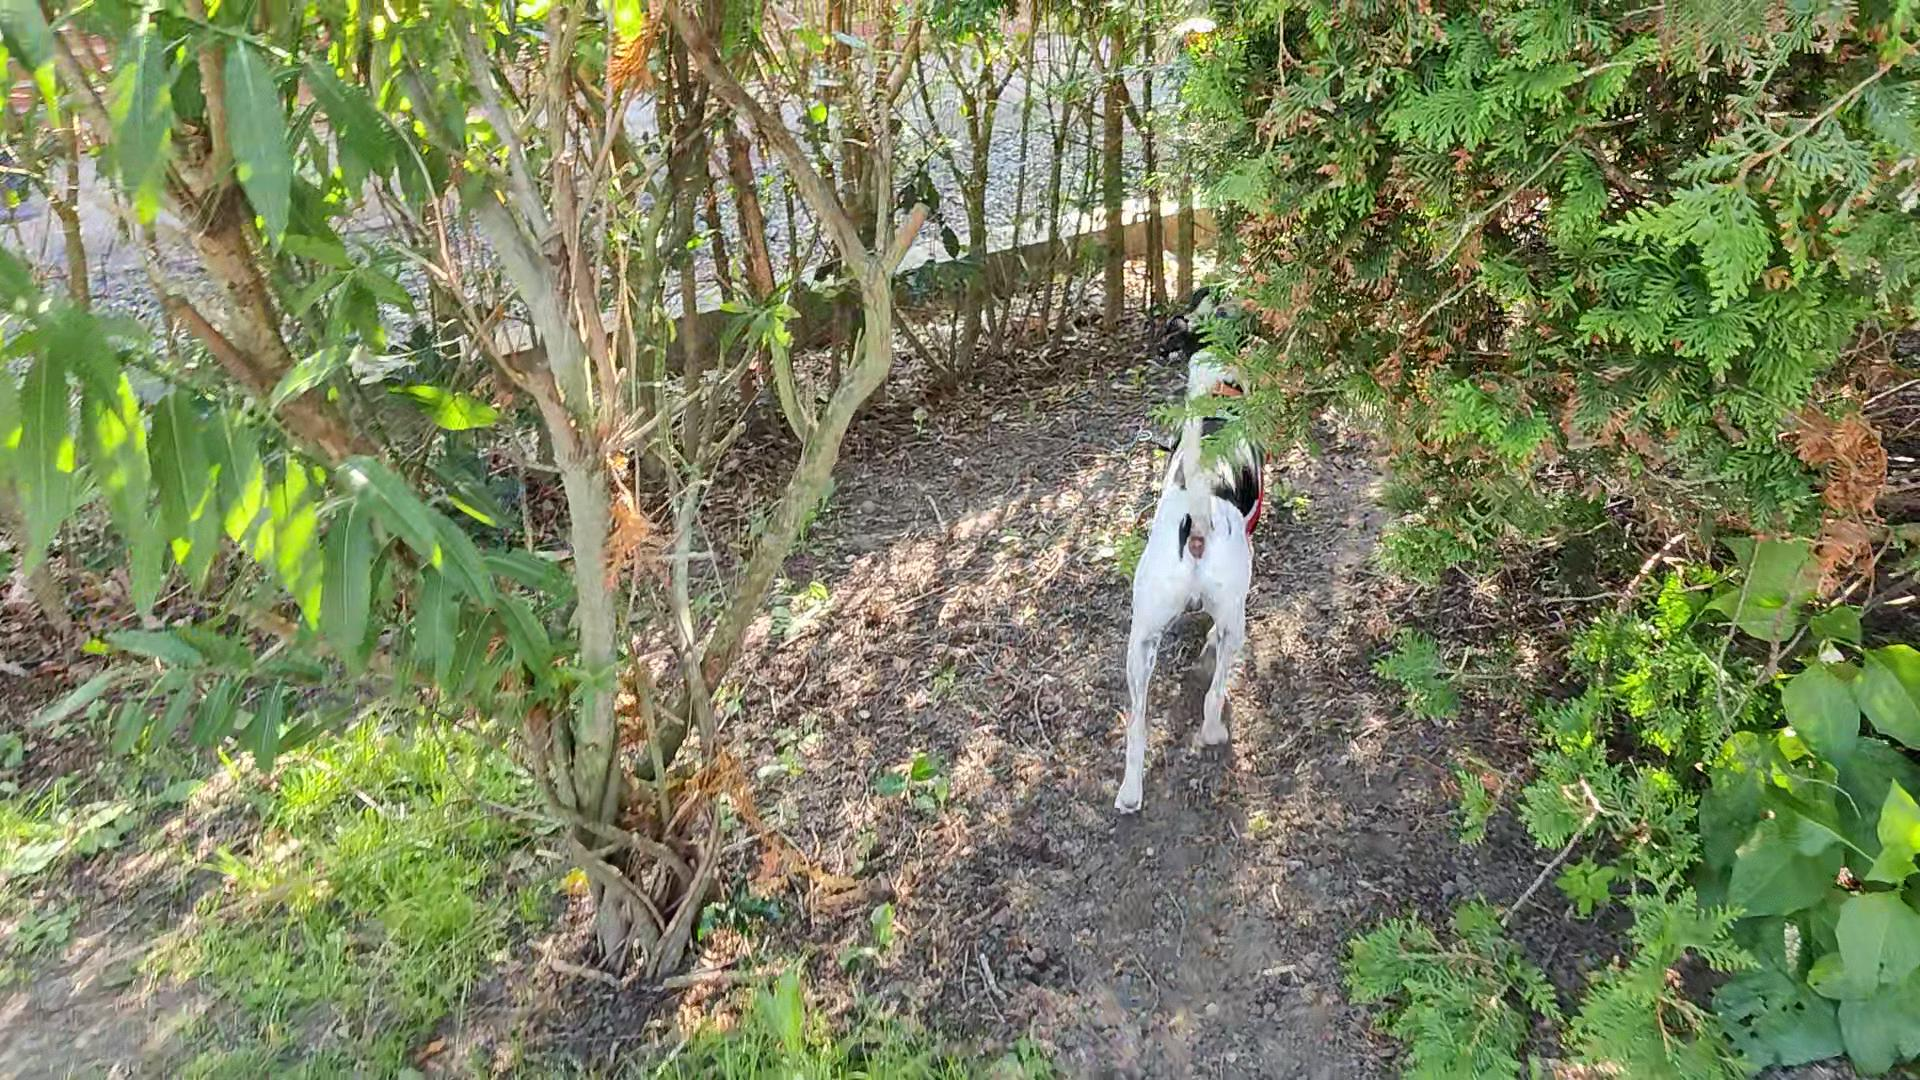Dog: (1098, 273, 1287, 819)
